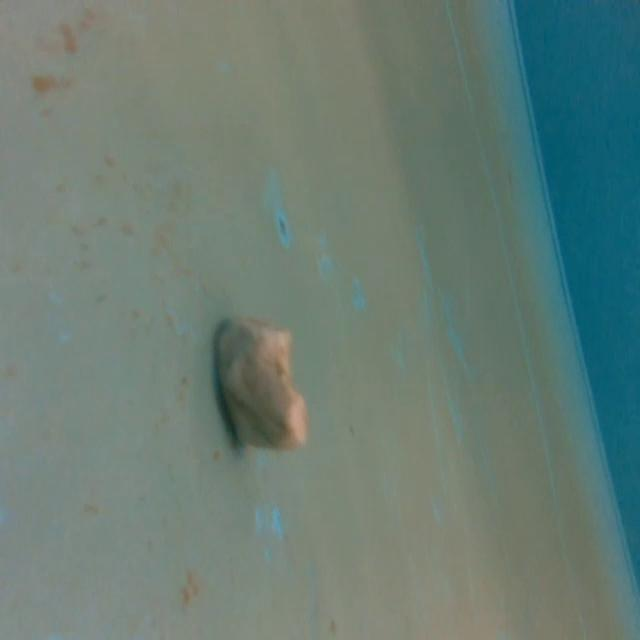rock: (209, 310, 311, 460)
